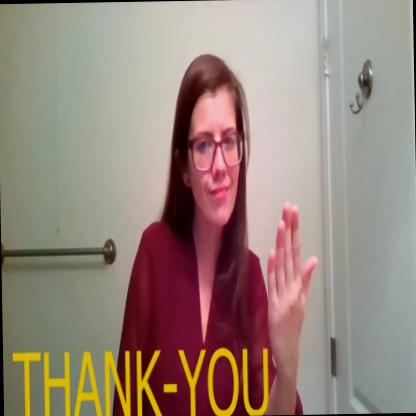ThankYou: (167, 35, 322, 386)
